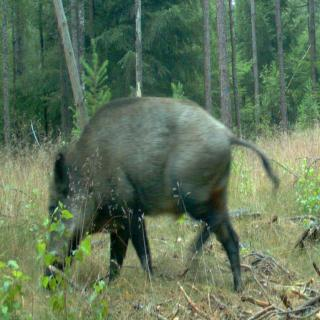Pig: (34, 97, 263, 289)
